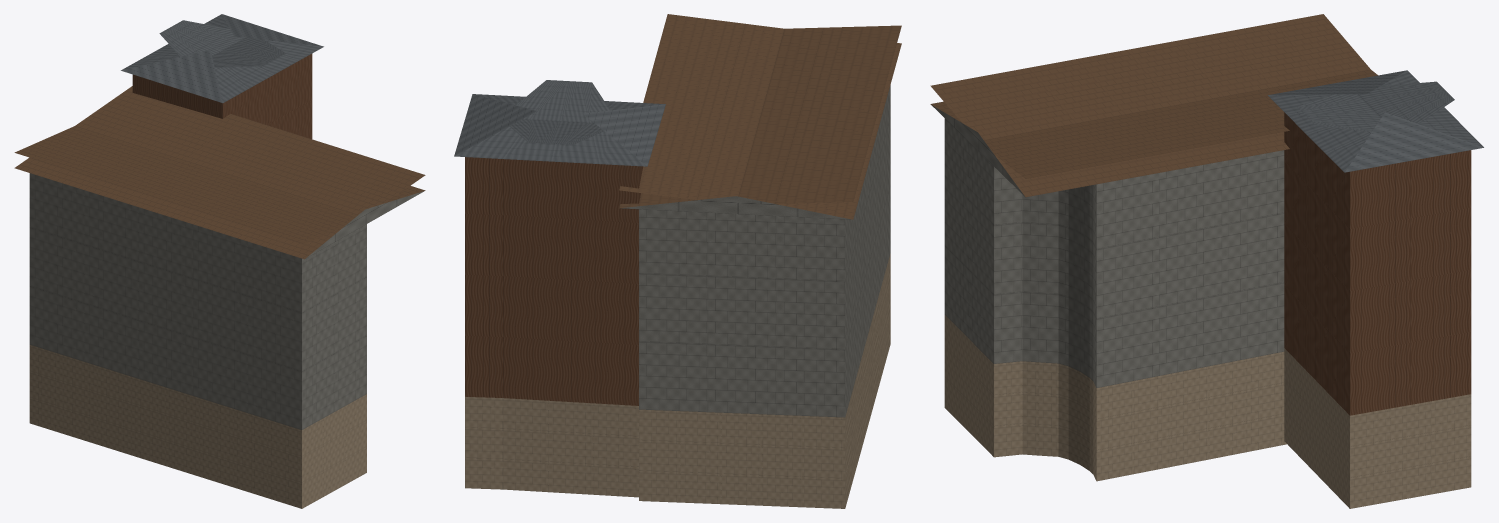
Rendered from bld_c44_34_254.gltf.
3 renders of one model, left to right at view 1: azimuth 30°, elevation 25°; view 2: azimuth 150°, elevation 25°; view 3: azimuth 270°, elevation 25°, orthographic. The views are drawn at different scales.
Visible parts, largest first — view 1: bld_c44_34_254; view 2: bld_c44_34_254; view 3: bld_c44_34_254.
Boxes of the visible parts, x1,y1,x2,y2 form: bld_c44_34_254: (14, 14, 425, 508); bld_c44_34_254: (454, 14, 901, 508); bld_c44_34_254: (930, 14, 1483, 508).
Bounding box in the file's own units: 21.61 × 19.9 × 27.48.
Materials: 6 (6 with a texture image).
